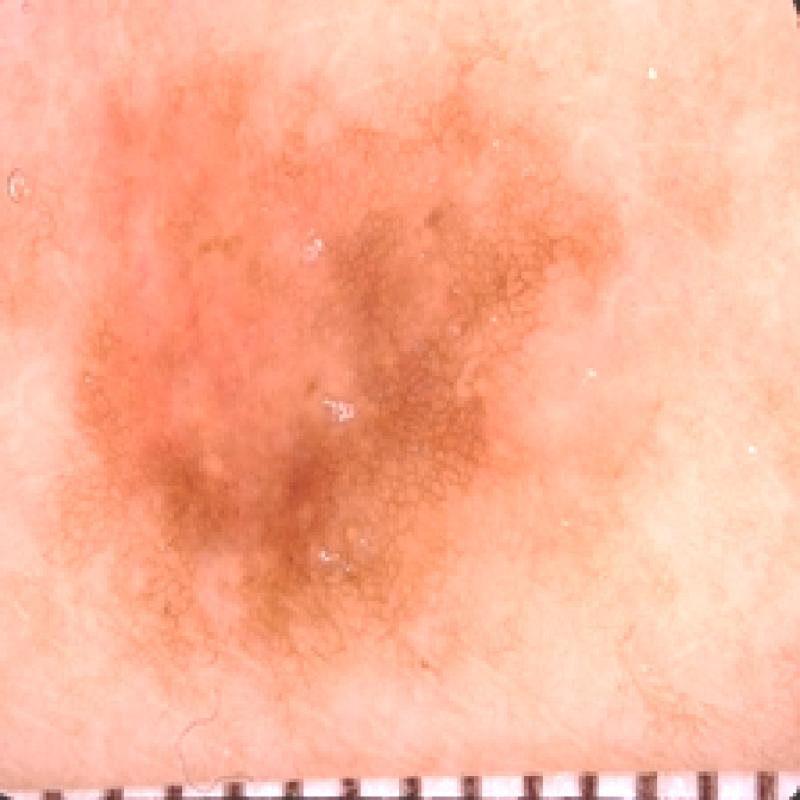malignant: (59, 38, 636, 664)
